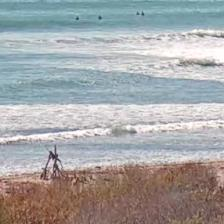surfer: (97, 15, 103, 21), (140, 11, 146, 16), (75, 16, 81, 21), (136, 11, 141, 15)
